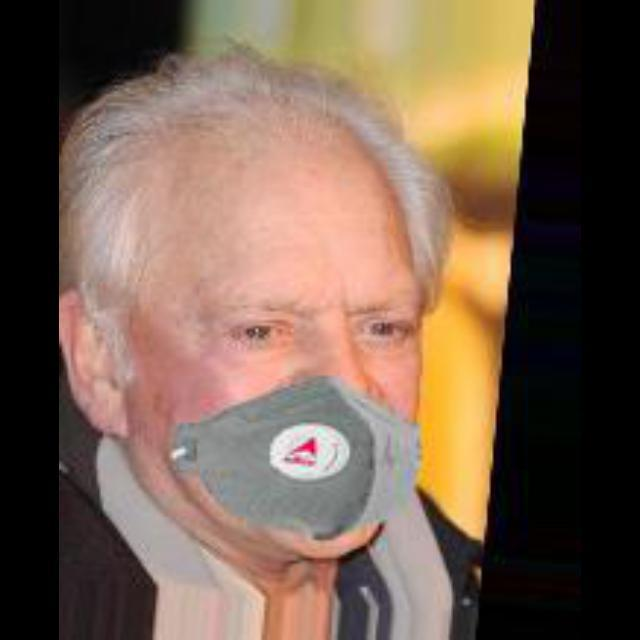suspicion: (95, 100, 482, 562)
